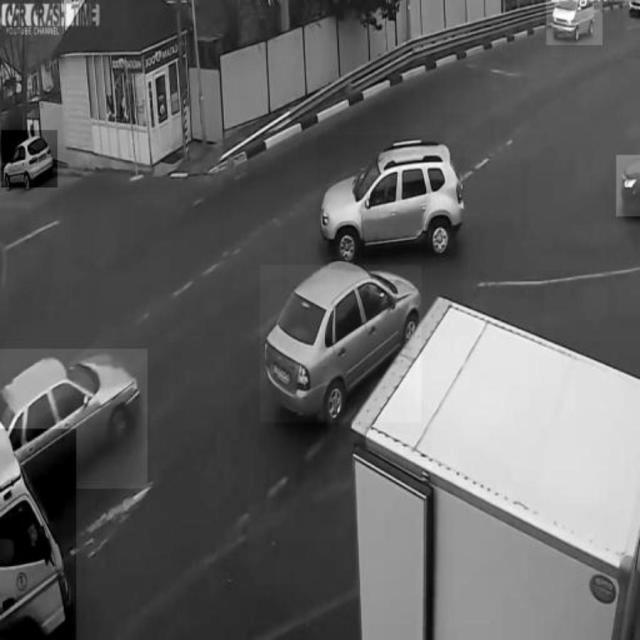vehicle: (260, 265, 420, 422), (1, 349, 148, 489), (318, 135, 465, 257), (1, 429, 77, 640), (1, 131, 57, 188), (547, 1, 603, 46), (616, 155, 640, 216)
